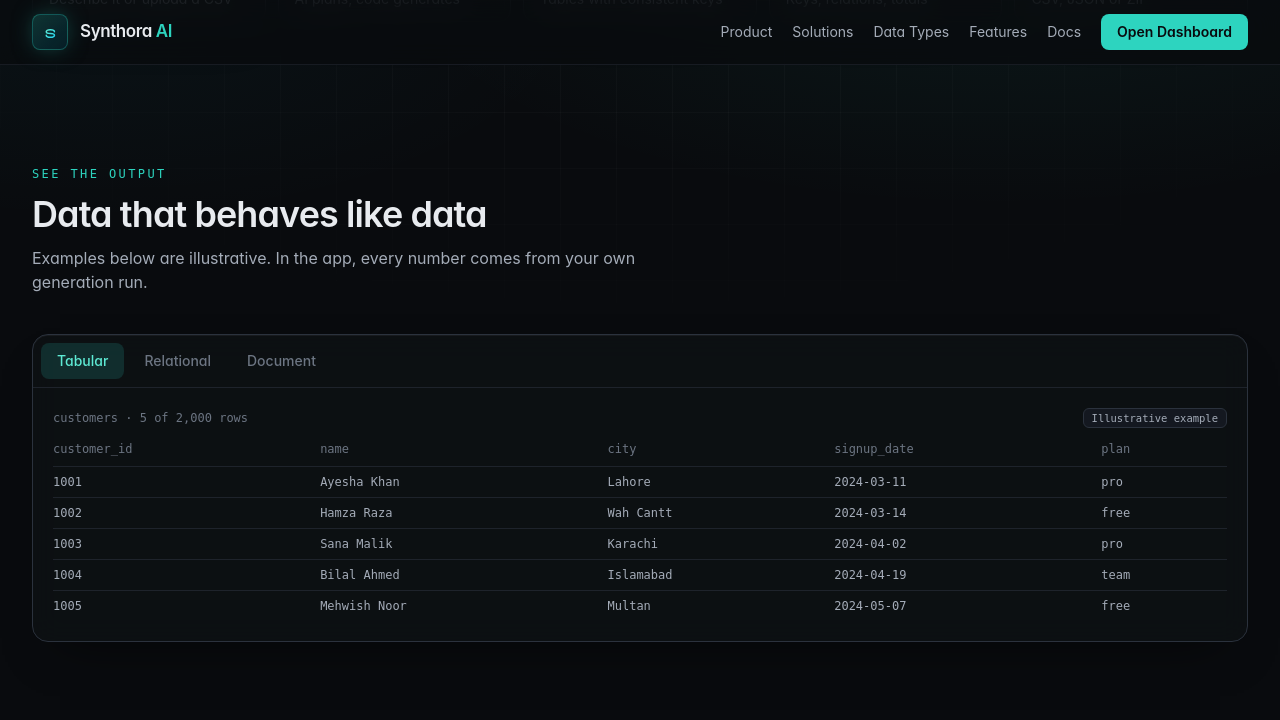
Test case: landing nav points only at real routes, has no sign in or sign up, and the showcase tabs switch
This screenshot has width=1280, height=720.
(page scrolled)
Click the tab "Document".
click(281, 360)  # box [231,342,332,378]
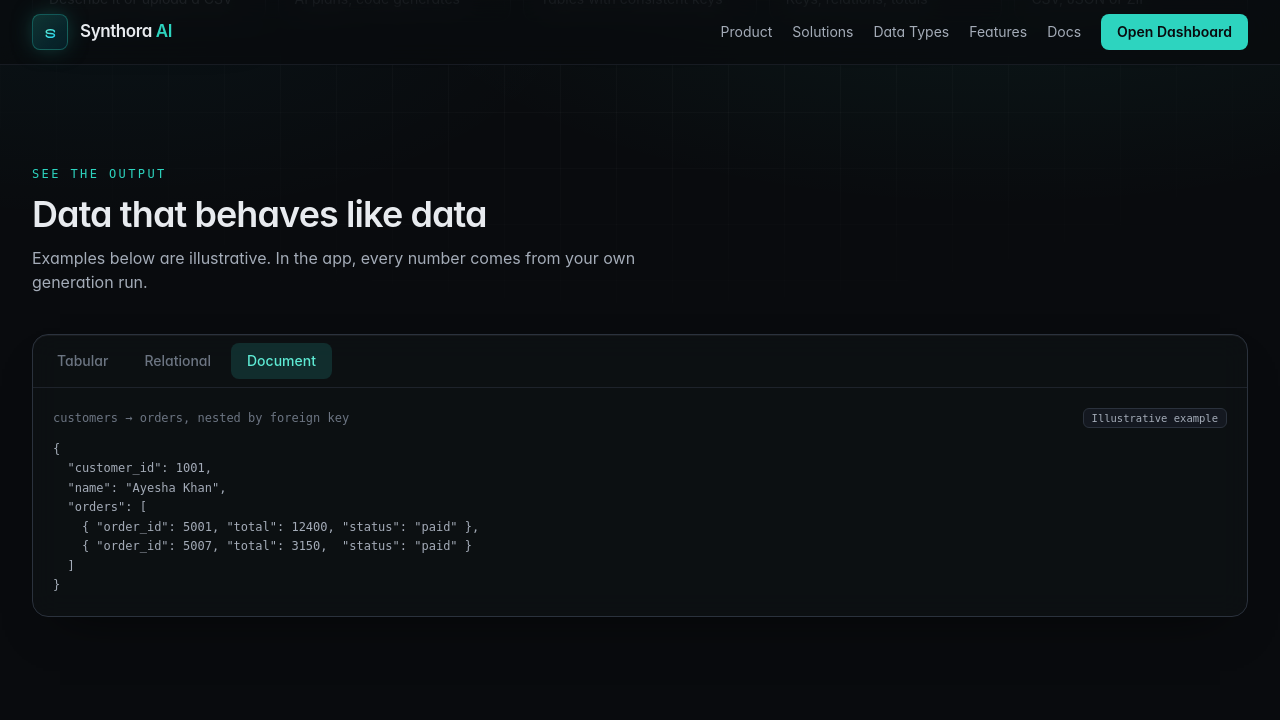
Check: the panel shows "orders", box [53,410,349,424]
